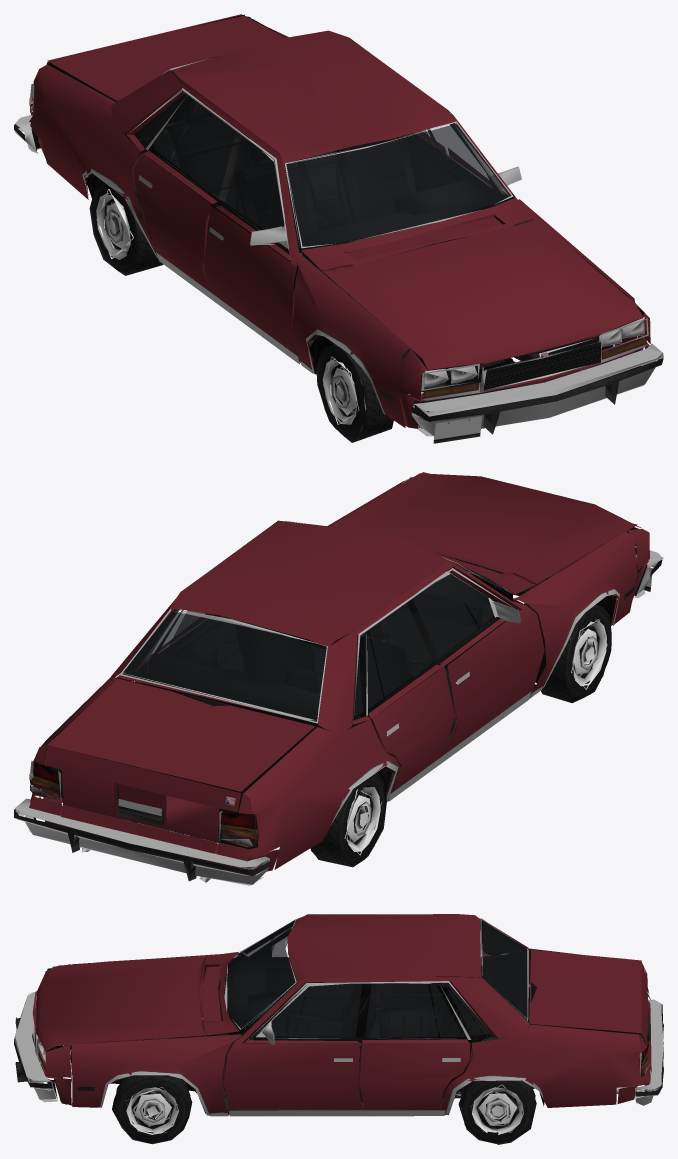
Rendered from fairheaven-lt-80-lite.glb.
3 renders of one model, top to bottom at view 1: azimuth 30°, elevation 25°; view 2: azimuth 150°, elevation 25°; view 3: azimuth 270°, elevation 25°, orthographic. The views are drawn at different scales.
Visible parts, largest first — view 1: Fairheaven_LT80_body_Fairheaven_LT80_Bodymat_0; view 2: Fairheaven_LT80_body_Fairheaven_LT80_Bodymat_0; view 3: Fairheaven_LT80_body_Fairheaven_LT80_Bodymat_0.
Boxes of the visible parts, x1=… form: Fairheaven_LT80_body_Fairheaven_LT80_Bodymat_0: x1=14, y1=14, x2=663, y2=443; Fairheaven_LT80_body_Fairheaven_LT80_Bodymat_0: x1=14, y1=472, x2=663, y2=885; Fairheaven_LT80_body_Fairheaven_LT80_Bodymat_0: x1=14, y1=914, x2=663, y2=1144.
Size of the model in its own units: 1.65 by 1.22 by 4.5.
Materials: 8 (7 with a texture image).
